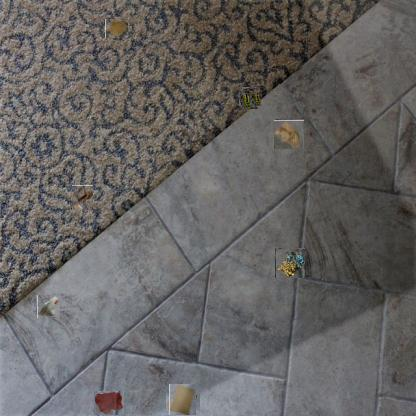dirty: (167, 386, 198, 416), (275, 248, 305, 278), (275, 120, 304, 149), (71, 185, 93, 210), (37, 295, 60, 318), (241, 88, 260, 107)
liquid: (94, 391, 124, 415), (106, 18, 127, 39)
